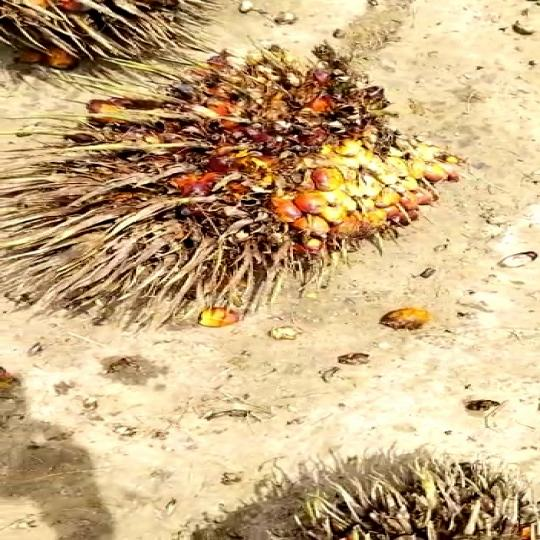terlalu masak: (0, 49, 490, 353)
